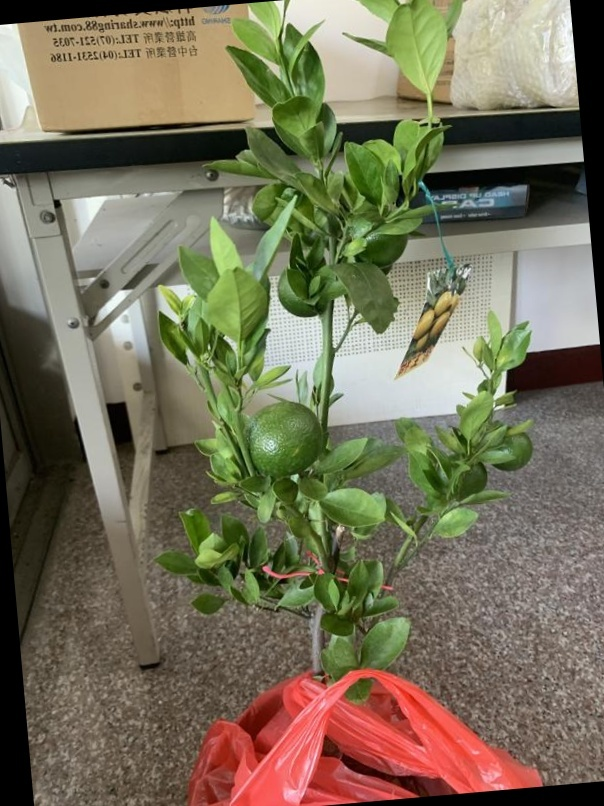Tangerine: (249, 403, 322, 476), (492, 425, 533, 470)
